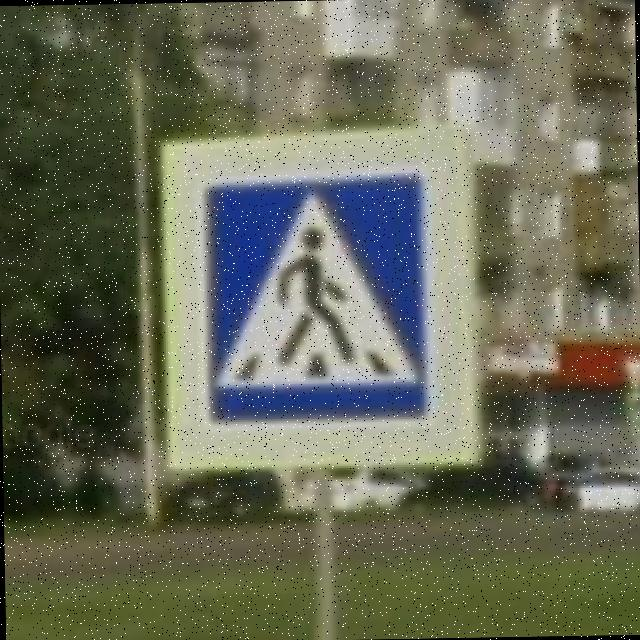Przejscie dla pieszych: (159, 121, 484, 478)
